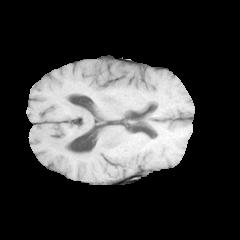glioma: (97, 151, 157, 183)
